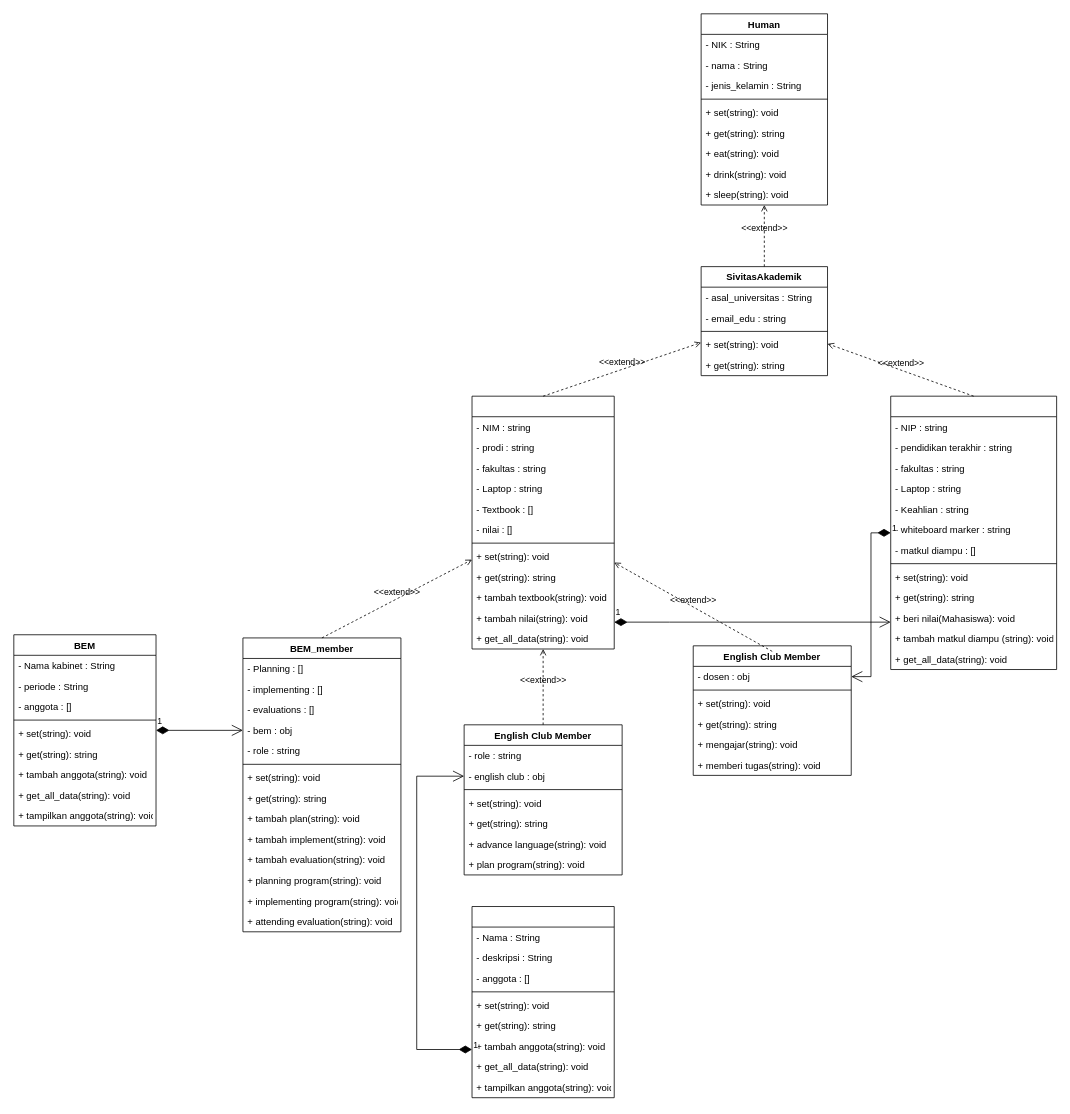
Some shapes in this 1070 by 1114 pixel diagram are drawn without their labels. The shapes that lost their labels are listed below. From the top down, each one's box as (x1, y1, x2, y2) in pixels, then its label:
(471, 395, 614, 649): Mahasiswa
(890, 395, 1057, 670): Dosen
(471, 906, 614, 1098): English Club
